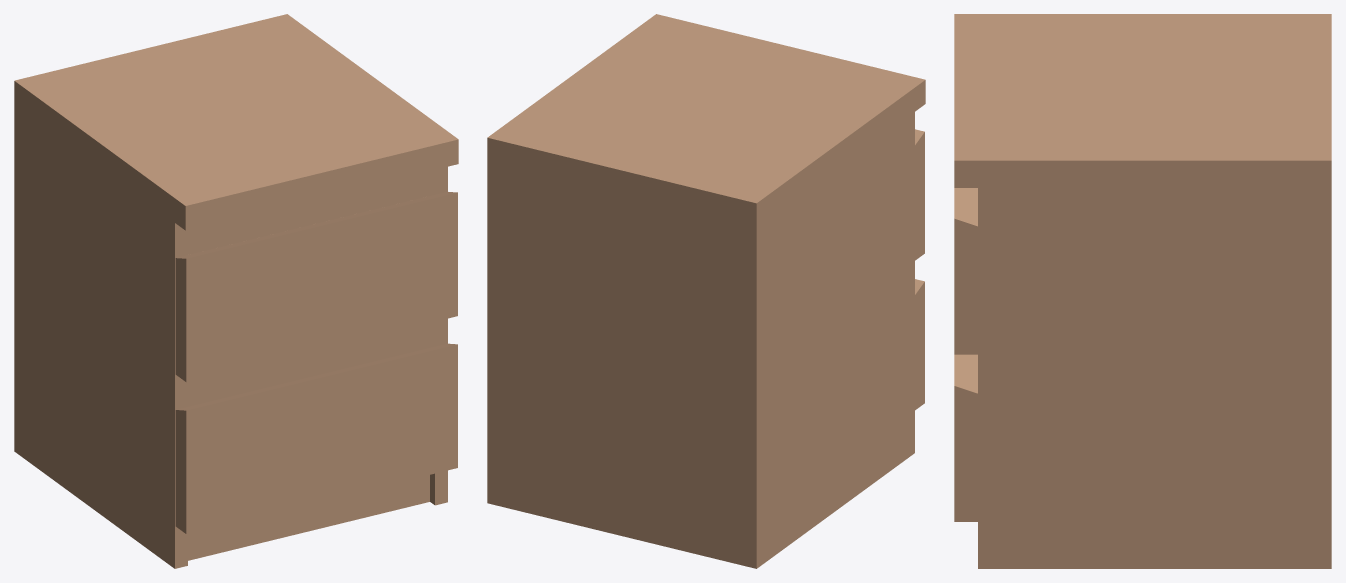
Rendered from Dresser_2.fbx.
3 renders of one model, left to right at view 1: azimuth 30°, elevation 25°; view 2: azimuth 150°, elevation 25°; view 3: azimuth 270°, elevation 25°, orthographic. The views are drawn at different scales.
Parts seen in each view (by area): view 1: Dresser, Drawer_Top.001, Drawer_Bottom.002; view 2: Dresser, Drawer_Bottom.002, Drawer_Top.001; view 3: Dresser, Drawer_Bottom.002, Drawer_Top.001.
Part boxes in pixels (box(x1,y1,x2,y2)): Dresser: box(14, 14, 458, 568); Drawer_Top.001: box(175, 191, 457, 382); Drawer_Bottom.002: box(175, 343, 457, 533); Dresser: box(487, 14, 925, 568); Drawer_Bottom.002: box(915, 279, 924, 410); Drawer_Top.001: box(915, 129, 924, 260); Dresser: box(954, 14, 1331, 568); Drawer_Bottom.002: box(954, 354, 977, 521); Drawer_Top.001: box(954, 188, 977, 354).
Bounding box in the file's own units: 0.4415 × 0.5727 × 0.4798.
